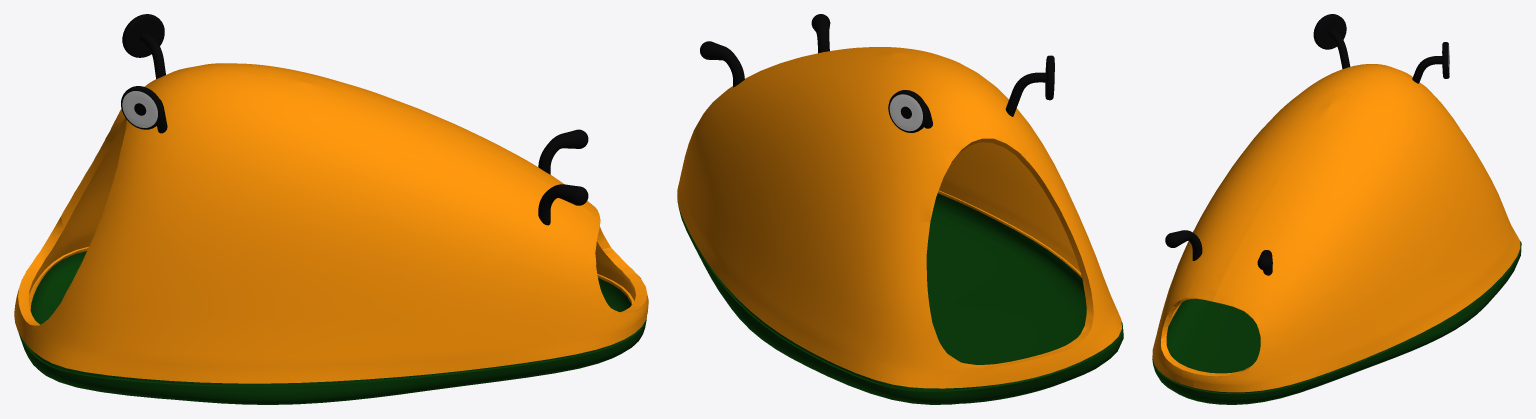
Rendered from escapePod.FBX.
The picture shows the model from 3 angles, left to right: view 1: azimuth 30°, elevation 25°; view 2: azimuth 150°, elevation 25°; view 3: azimuth 270°, elevation 25°; orthographic projection. The views are drawn at different scales.
Parts seen in each view (by area): view 1: Sphere06; view 2: Sphere06; view 3: Sphere06.
Boxes of the visible parts, left/top/right/bottom form: Sphere06: left=14, top=14, right=648, bottom=404; Sphere06: left=677, top=14, right=1123, bottom=404; Sphere06: left=1152, top=14, right=1521, bottom=404.
Bounding box in the file's own units: 923 × 504 × 720.
